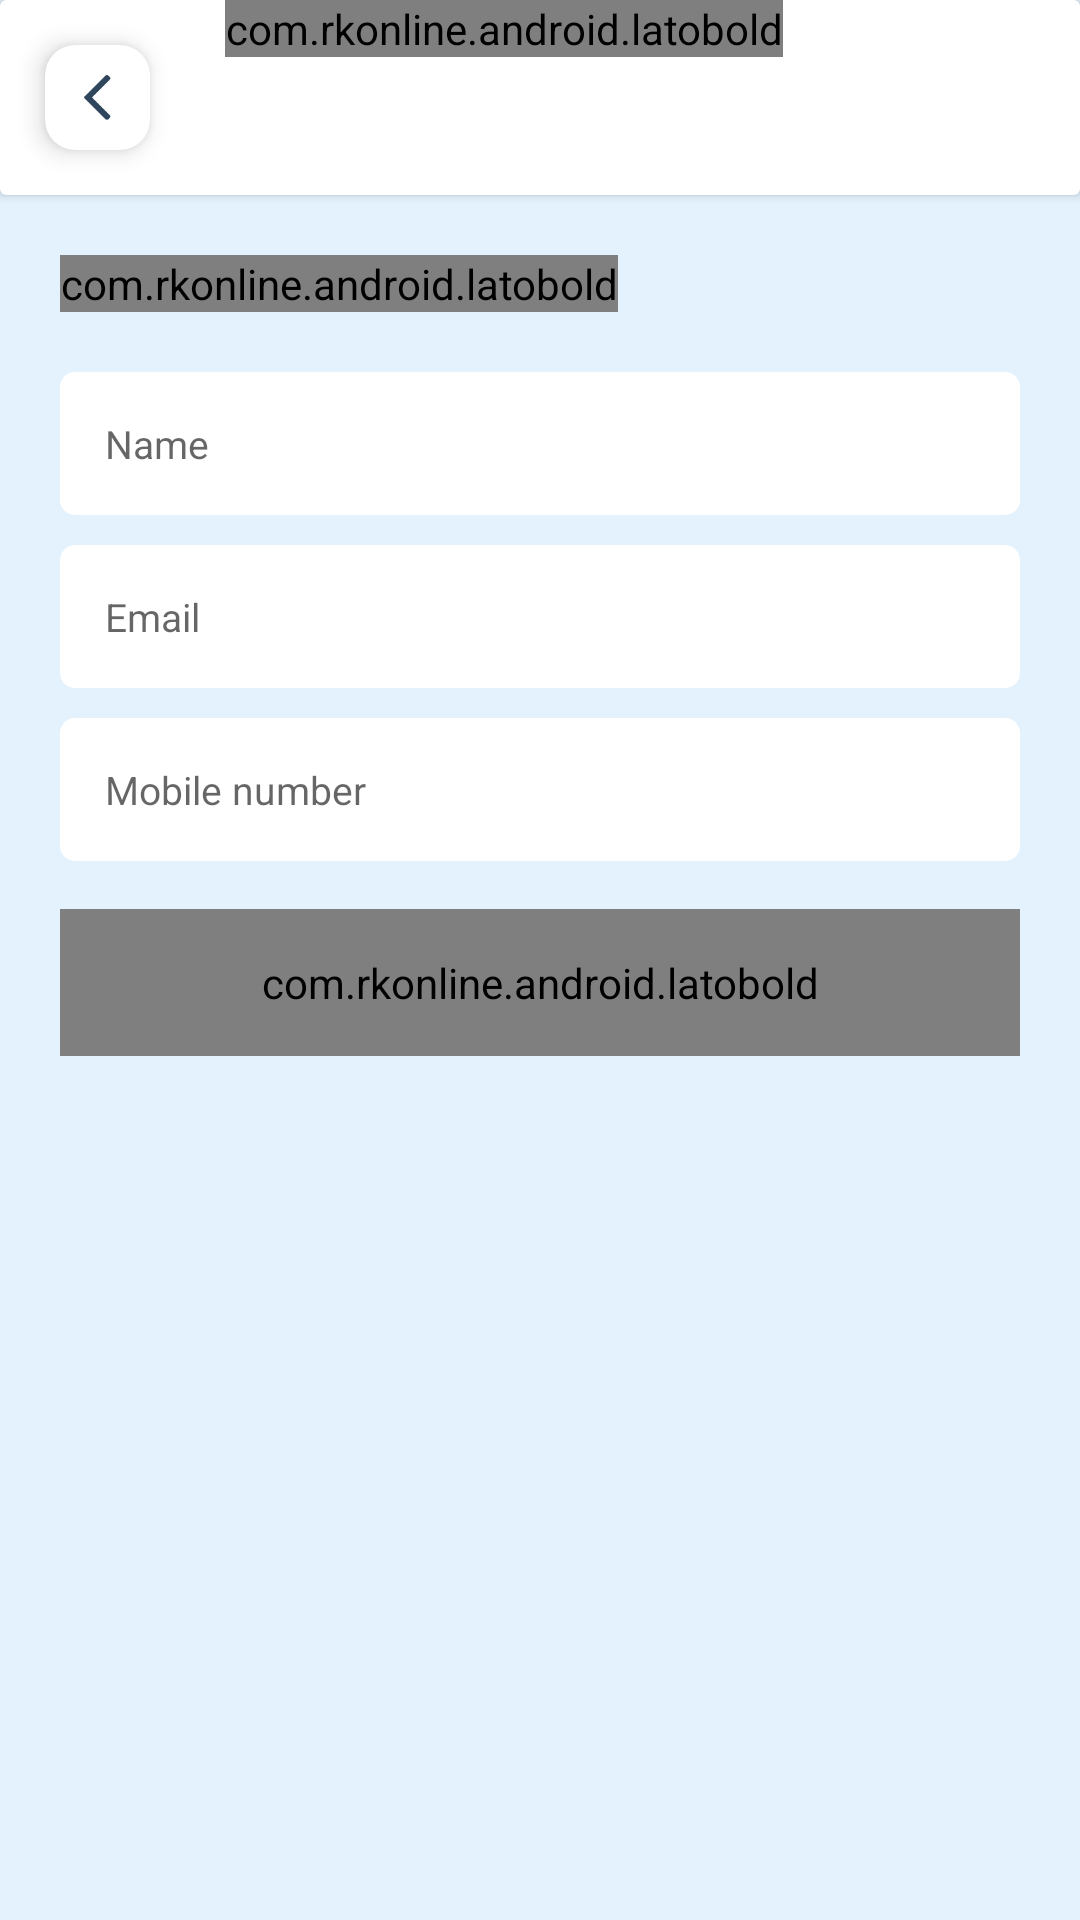

Where icons sit on this 1080 x 1920 app screen, as (x1, y1, x2, y2):
back: (84, 75, 111, 120)
